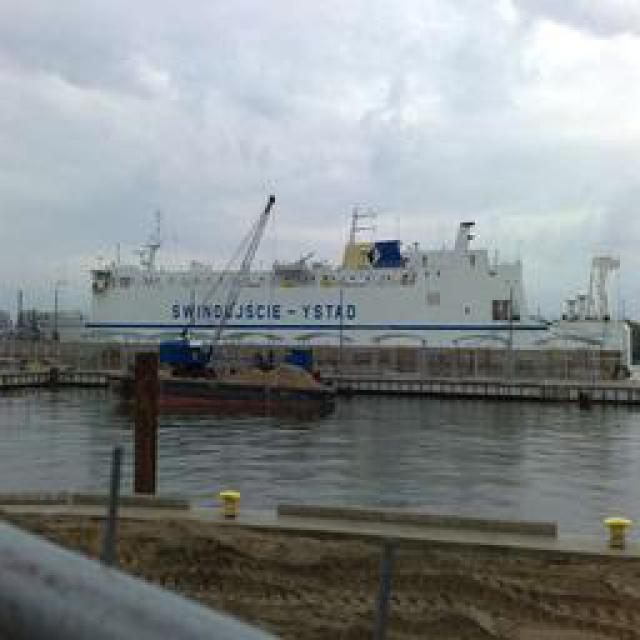Ship: (58, 200, 576, 393)
